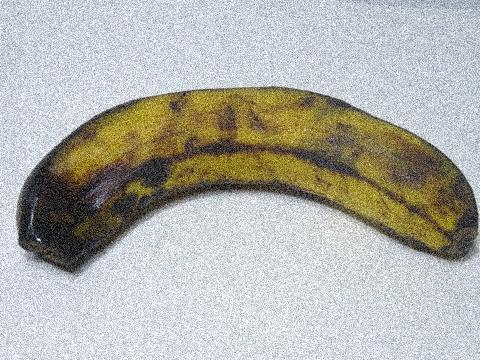overripe: (8, 75, 479, 276)
rotten: (3, 160, 151, 269)
